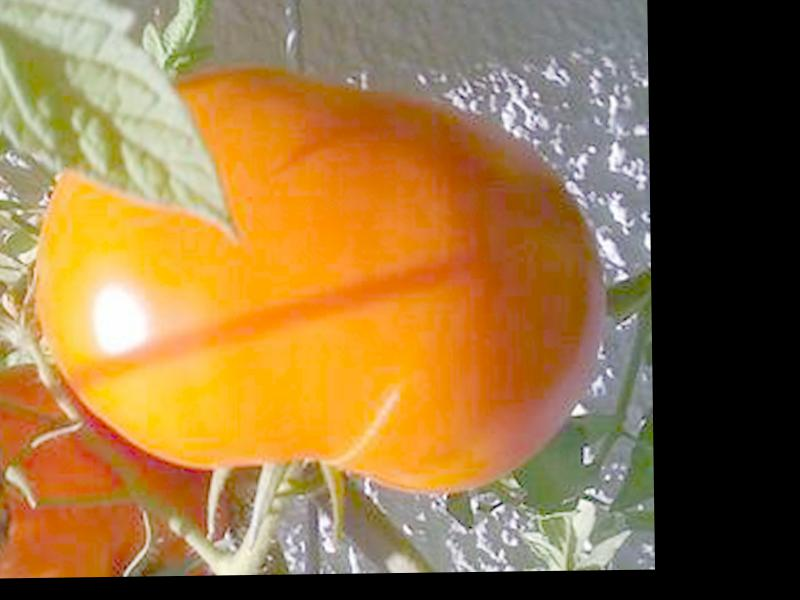Tomato: (30, 64, 606, 500)
